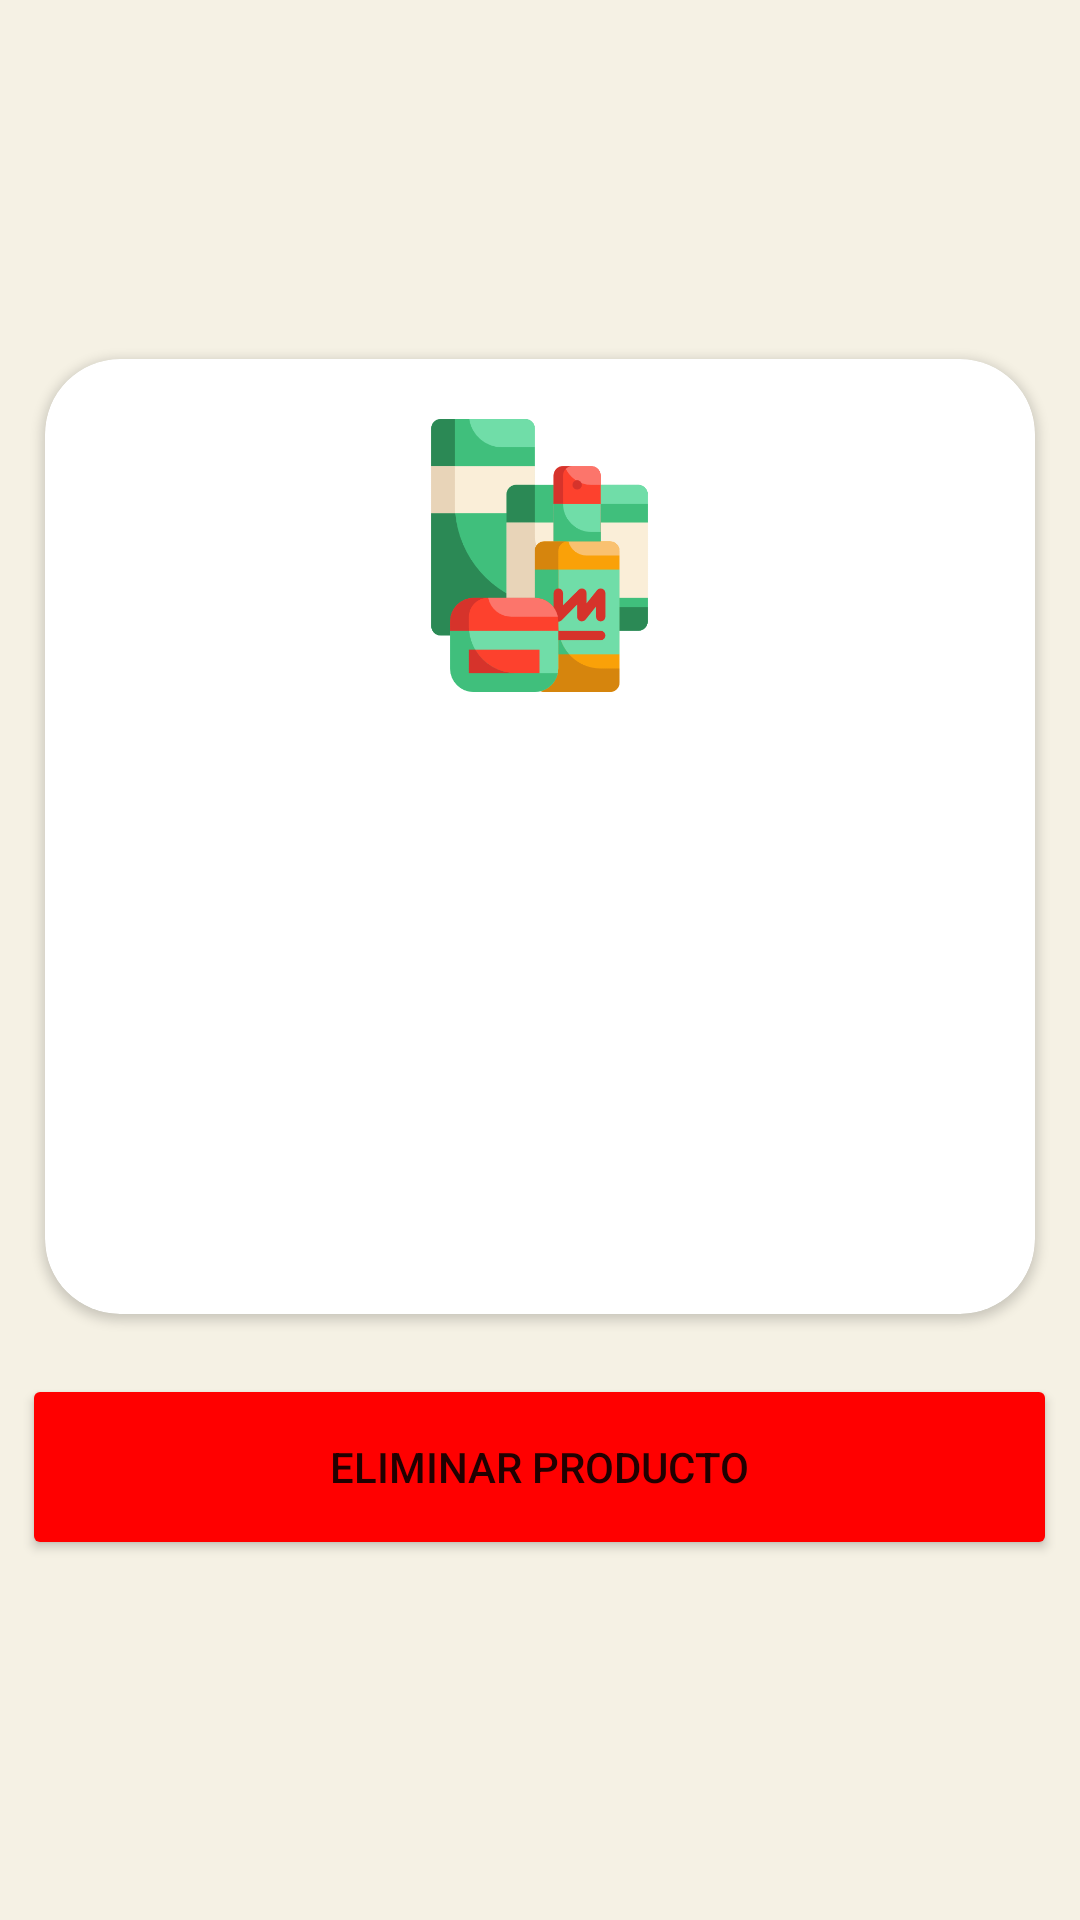

Icons on this 1080 x 1920 Android screen, each with the point to tap as point (x, y):
prod: point (539, 555)
